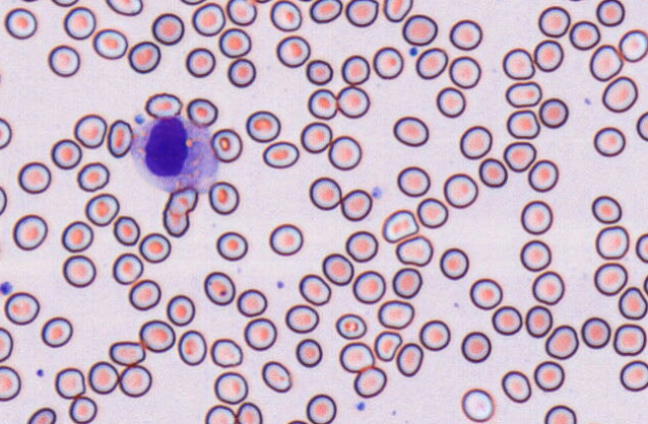MONO: (133, 114, 221, 192)
PLT: (0, 279, 15, 296), (371, 186, 385, 199), (134, 113, 147, 126), (355, 401, 366, 412), (409, 45, 420, 55)
RBC: (601, 75, 638, 113), (12, 214, 47, 250), (443, 172, 478, 208), (589, 44, 623, 81), (3, 291, 39, 325), (395, 234, 433, 266), (544, 324, 578, 359), (139, 319, 175, 352), (191, 2, 225, 36), (595, 225, 629, 259), (84, 193, 119, 226), (73, 113, 106, 148), (213, 371, 248, 404), (531, 270, 564, 305), (328, 135, 361, 170), (308, 176, 341, 210), (62, 254, 96, 287), (118, 364, 152, 397), (17, 161, 51, 194), (352, 270, 385, 304), (243, 317, 277, 350), (593, 262, 627, 295), (459, 125, 492, 159), (461, 388, 494, 422), (245, 110, 280, 142), (268, 223, 303, 255), (401, 14, 437, 45), (377, 299, 414, 329), (63, 6, 96, 39), (353, 365, 386, 398), (336, 85, 369, 118), (151, 12, 184, 45), (47, 44, 80, 77), (502, 47, 535, 80), (448, 55, 481, 88), (613, 323, 646, 356), (203, 271, 235, 305), (276, 35, 310, 67), (396, 165, 430, 197), (210, 128, 242, 162), (520, 200, 552, 234), (339, 341, 374, 372), (92, 28, 127, 59), (393, 115, 428, 146), (128, 278, 161, 310), (128, 40, 160, 73), (4, 7, 37, 39), (298, 273, 331, 305), (340, 188, 372, 221), (415, 47, 448, 79), (537, 5, 570, 37), (345, 230, 378, 262), (469, 277, 502, 309), (208, 181, 239, 215), (177, 329, 206, 365), (262, 140, 299, 168), (106, 119, 133, 157), (61, 220, 93, 252), (300, 121, 332, 153), (519, 239, 551, 271), (418, 319, 450, 351), (112, 252, 143, 285), (503, 141, 536, 172), (138, 232, 171, 263), (322, 252, 353, 285), (87, 361, 118, 394), (40, 316, 73, 347), (527, 159, 558, 192), (269, 0, 302, 31), (449, 19, 482, 50), (372, 46, 403, 79), (506, 109, 540, 139), (618, 28, 648, 62), (505, 80, 542, 107), (50, 138, 82, 169), (54, 367, 85, 399), (460, 331, 491, 363), (416, 197, 448, 228), (580, 316, 611, 348), (501, 370, 531, 403), (76, 161, 109, 191), (218, 27, 251, 57), (533, 39, 563, 72), (144, 92, 182, 118), (618, 286, 647, 320), (285, 304, 319, 333), (391, 267, 422, 298), (533, 360, 564, 391), (439, 247, 469, 279), (261, 360, 291, 392), (593, 126, 625, 156), (210, 338, 243, 367), (395, 342, 423, 376), (186, 97, 217, 127), (305, 393, 336, 423), (307, 88, 337, 119), (538, 97, 568, 128), (491, 305, 522, 335), (569, 20, 600, 50), (619, 359, 648, 391), (166, 294, 195, 326), (524, 304, 552, 337), (185, 47, 215, 77), (341, 54, 370, 85), (216, 231, 247, 260), (436, 86, 465, 117), (345, 0, 378, 27), (478, 157, 507, 187), (236, 288, 267, 316), (591, 195, 622, 223), (335, 312, 366, 339), (227, 58, 255, 87), (113, 215, 140, 245), (68, 396, 97, 423), (295, 338, 322, 367), (308, 0, 342, 23), (163, 207, 189, 237), (595, 0, 625, 26), (0, 365, 21, 401), (226, 0, 256, 25), (305, 59, 333, 85), (383, 0, 412, 22), (204, 404, 236, 423), (544, 404, 576, 423), (235, 401, 262, 423), (105, 0, 142, 16), (26, 407, 56, 423), (0, 326, 13, 362), (635, 232, 648, 263), (0, 117, 12, 149), (636, 110, 648, 141), (0, 185, 7, 215), (50, 0, 79, 7), (179, 0, 206, 5), (643, 272, 648, 297), (286, 419, 308, 424), (579, 421, 615, 424), (0, 234, 3, 264), (0, 62, 2, 91), (254, 0, 272, 3), (563, 0, 589, 2), (18, 0, 42, 2), (640, 0, 648, 5)
Schistocyte: (383, 209, 421, 244), (108, 341, 146, 367), (376, 330, 401, 363), (169, 187, 199, 214)
